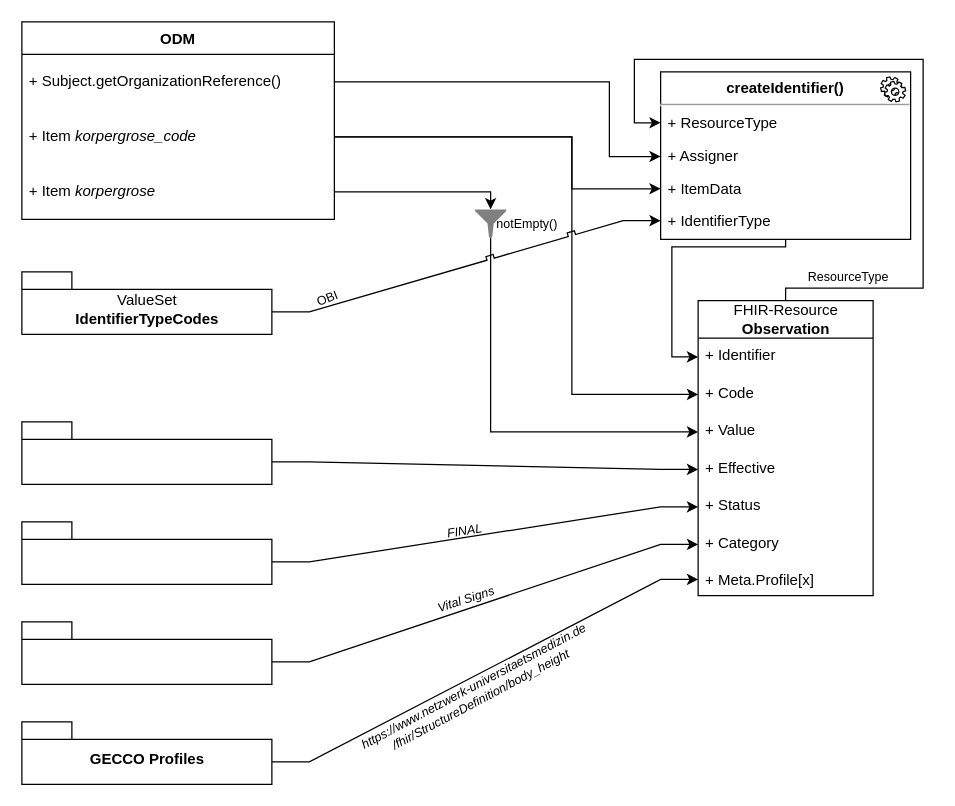
The diagram is 955 pixels wide and 806 high, and some of its shapes have lost their labels. The centre of each missing label's shape, as x and y in pixels:
"Extension UnknownDateTime" belongs at [146,452].
"ValueSet ObservationCategoryCodes" belongs at [146,652].
"ValueSet ObservationStatus" belongs at [146,552].
